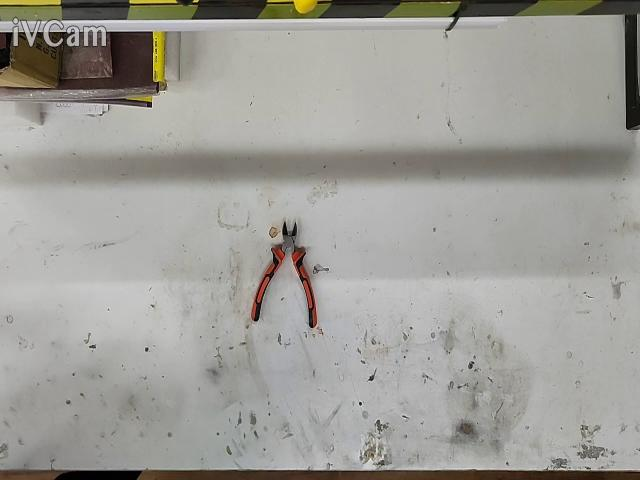Cutting pliers: (251, 221, 318, 328)
